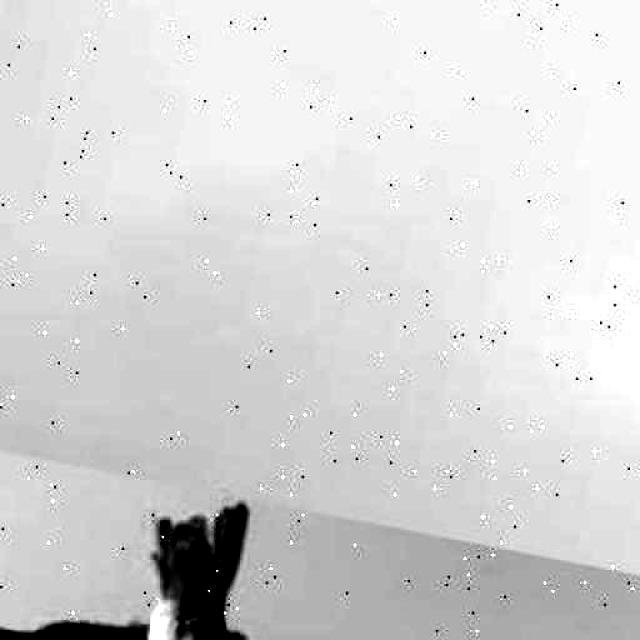airplane: (0, 398, 640, 640)
